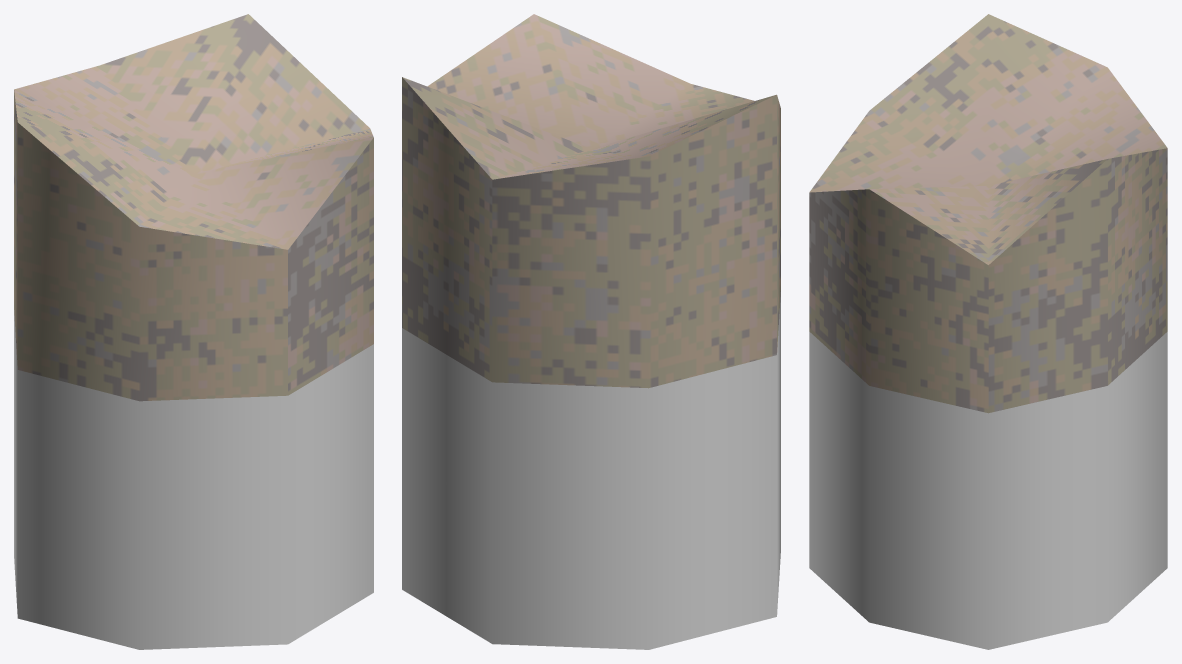
Rendered from broken pillar Bottom.fbx.
The picture shows the model from 3 angles, left to right: view 1: azimuth 30°, elevation 25°; view 2: azimuth 150°, elevation 25°; view 3: azimuth 270°, elevation 25°; orthographic projection. The views are drawn at different scales.
Parts seen in each view (by area): view 1: RoundPillar; view 2: RoundPillar; view 3: RoundPillar.
Boxes of the visible parts, x1,y1,x2,y2 form: RoundPillar: (14,14,373,649); RoundPillar: (402,14,780,649); RoundPillar: (809,14,1167,649).
Bounding box in the file's own units: 55.05 × 74.05 × 50.94.
